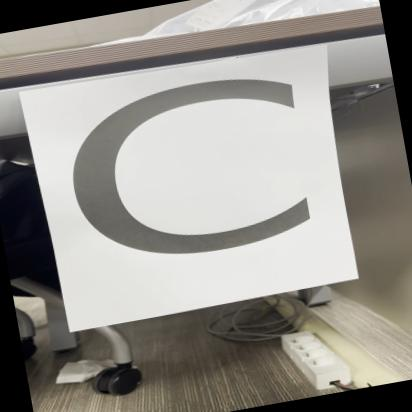seat: (17, 37, 366, 332)
